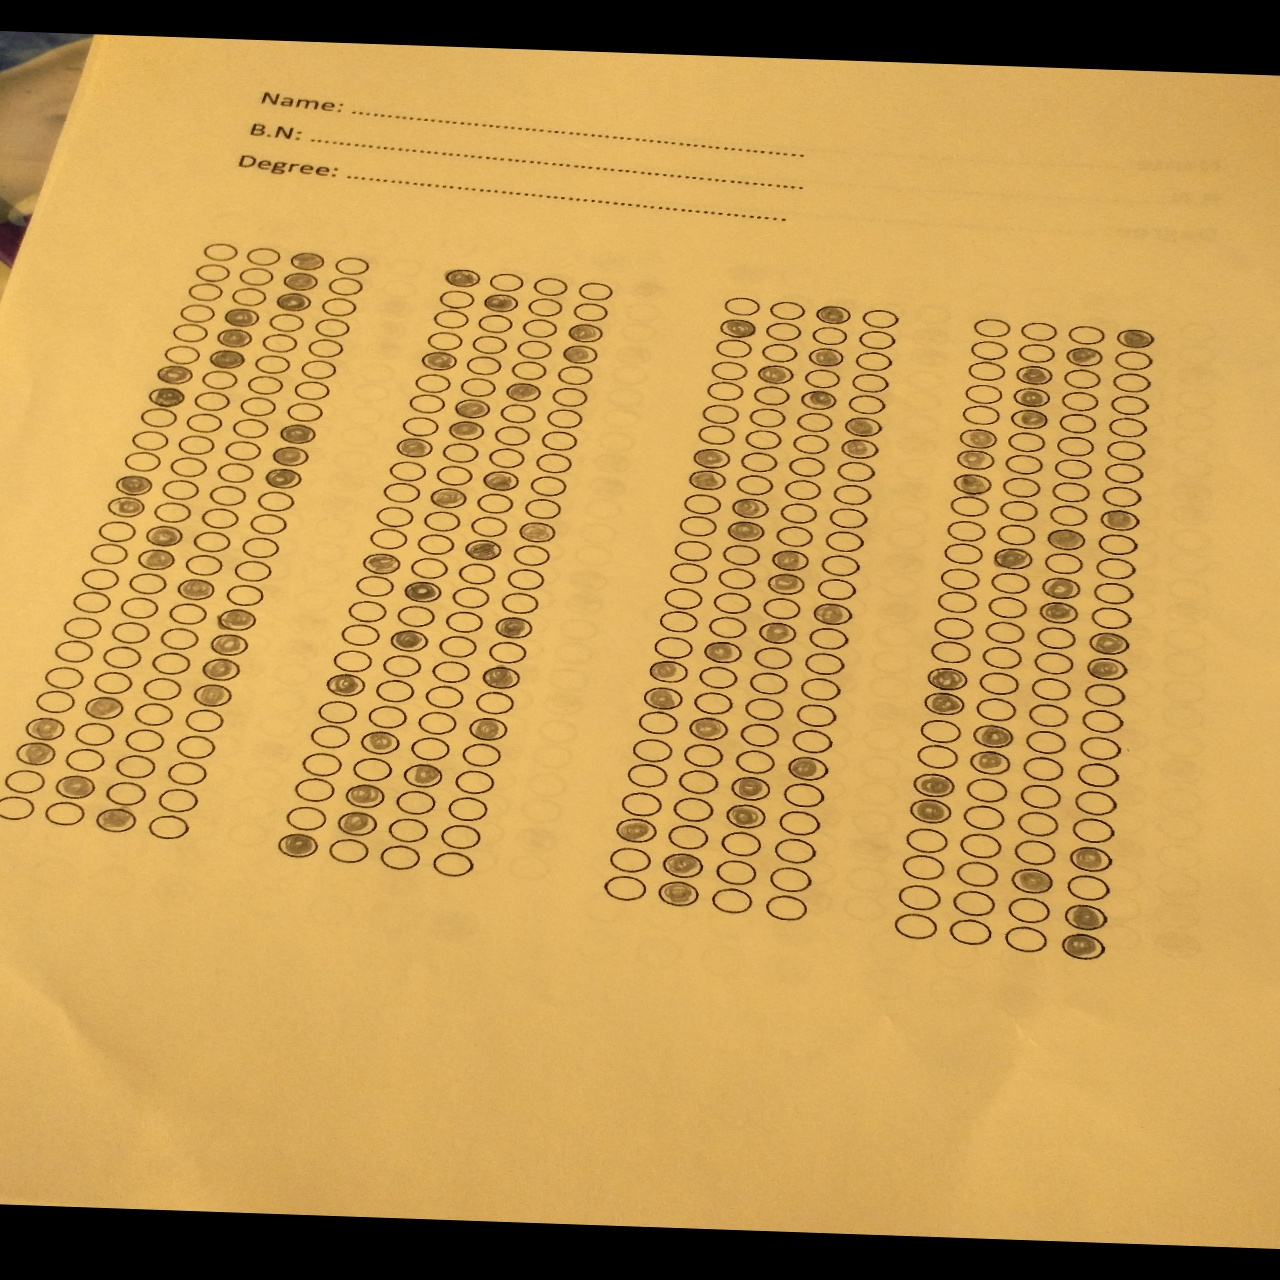not-c: (768, 864, 813, 894), (772, 836, 818, 865), (712, 859, 758, 887), (947, 917, 992, 946), (602, 874, 648, 903), (709, 886, 755, 914), (904, 826, 949, 855), (951, 888, 996, 917), (1006, 896, 1051, 924), (282, 804, 326, 833), (795, 701, 838, 730), (445, 795, 490, 823), (763, 894, 808, 922), (719, 829, 763, 857), (1013, 838, 1057, 866), (959, 832, 1003, 860), (898, 884, 942, 912), (1065, 874, 1110, 903), (147, 813, 190, 842), (326, 837, 369, 865), (384, 816, 428, 844), (452, 769, 496, 797), (409, 735, 452, 763), (309, 723, 353, 751), (366, 703, 409, 731), (626, 761, 669, 789), (670, 795, 714, 823), (790, 727, 833, 755), (667, 823, 710, 851), (903, 853, 946, 881), (893, 912, 937, 940), (955, 860, 999, 888), (1005, 925, 1048, 953), (377, 844, 422, 871), (291, 777, 335, 804), (43, 799, 86, 828), (394, 789, 436, 817), (349, 756, 392, 784), (315, 697, 358, 726), (621, 790, 663, 818), (777, 809, 819, 837), (692, 689, 734, 717), (440, 824, 483, 851), (459, 742, 503, 769), (300, 751, 343, 778), (415, 709, 458, 736), (373, 678, 416, 704), (407, 554, 450, 581), (1083, 681, 1126, 708), (1028, 701, 1071, 728), (783, 782, 824, 810), (610, 846, 651, 874), (104, 779, 147, 806), (4, 768, 46, 795), (433, 850, 475, 877), (474, 689, 516, 716), (748, 669, 790, 696), (682, 741, 724, 768), (1071, 817, 1114, 844), (423, 685, 467, 710), (331, 648, 374, 674), (430, 659, 474, 685), (437, 634, 481, 660), (339, 622, 382, 648), (394, 602, 437, 628), (442, 610, 485, 635), (497, 591, 540, 617), (354, 573, 397, 599), (454, 560, 497, 586), (503, 566, 546, 592), (804, 651, 847, 676), (919, 719, 962, 744), (915, 744, 959, 770), (1021, 755, 1064, 781), (1076, 762, 1119, 788), (1074, 789, 1117, 815), (965, 777, 1008, 803), (124, 727, 165, 754), (816, 576, 857, 602), (697, 665, 738, 692), (964, 803, 1005, 830), (114, 754, 156, 779), (157, 788, 199, 813), (486, 639, 529, 665), (743, 696, 785, 722), (733, 748, 775, 774), (978, 670, 1020, 696), (1030, 676, 1073, 702), (1082, 708, 1124, 734), (975, 697, 1017, 723), (1024, 729, 1067, 755), (1078, 736, 1121, 762), (1021, 783, 1063, 809), (1016, 811, 1058, 837), (346, 599, 389, 624), (449, 585, 492, 610), (822, 529, 865, 553), (89, 542, 130, 567), (166, 761, 207, 787), (64, 747, 105, 772), (420, 509, 461, 535), (440, 440, 481, 465), (799, 676, 840, 702), (738, 722, 779, 748), (678, 769, 719, 795), (995, 522, 1036, 547), (981, 645, 1022, 670), (175, 735, 217, 760), (380, 653, 422, 678), (818, 553, 860, 578), (719, 543, 761, 567), (760, 595, 802, 620), (806, 626, 849, 651), (653, 635, 695, 660), (636, 710, 679, 735), (935, 590, 978, 614), (193, 529, 233, 554), (225, 583, 265, 608), (80, 565, 120, 591), (53, 638, 93, 663), (102, 644, 142, 669), (151, 651, 191, 676), (400, 414, 440, 440), (715, 567, 758, 591), (132, 701, 173, 726), (74, 721, 115, 745), (527, 474, 568, 498), (381, 481, 422, 505), (538, 429, 579, 454), (673, 538, 714, 563), (668, 561, 709, 586), (658, 610, 699, 634), (712, 591, 753, 615), (753, 646, 794, 670), (1017, 319, 1058, 343), (1055, 434, 1096, 458), (942, 542, 983, 566), (1091, 606, 1132, 631), (988, 595, 1029, 620), (933, 617, 974, 641), (1035, 626, 1076, 651), (240, 535, 279, 560), (704, 617, 747, 640), (631, 738, 673, 762), (177, 433, 217, 457), (97, 519, 137, 544), (233, 558, 273, 583), (72, 590, 111, 614), (118, 595, 158, 620), (158, 626, 198, 651), (93, 670, 132, 695), (45, 666, 84, 690), (184, 708, 224, 733), (406, 392, 445, 416), (1043, 552, 1083, 577), (1097, 532, 1137, 557), (1034, 651, 1074, 675), (166, 601, 207, 625), (368, 527, 409, 551), (468, 515, 509, 538), (474, 491, 515, 515), (522, 497, 563, 520), (433, 464, 474, 488), (387, 459, 428, 483), (485, 445, 526, 469), (532, 451, 573, 475), (491, 423, 532, 447), (411, 372, 452, 395), (496, 402, 537, 425), (543, 406, 584, 429), (508, 359, 549, 382), (431, 307, 472, 331), (568, 300, 610, 324), (860, 307, 901, 331), (708, 359, 749, 382), (704, 380, 745, 403), (742, 428, 783, 451), (787, 455, 828, 478), (835, 459, 876, 483), (830, 483, 871, 506), (772, 525, 813, 549), (663, 587, 704, 611), (1016, 341, 1057, 365), (1114, 348, 1155, 372), (1109, 394, 1150, 417), (1051, 481, 1092, 504), (1103, 462, 1144, 485), (945, 519, 986, 543), (939, 567, 980, 591), (990, 572, 1032, 595), (1095, 557, 1136, 580), (1092, 581, 1133, 605), (930, 640, 971, 663), (983, 620, 1024, 644), (185, 553, 224, 578), (128, 571, 166, 595), (35, 689, 74, 714), (1, 794, 36, 821), (123, 450, 163, 474), (110, 621, 150, 645), (61, 615, 101, 639), (142, 678, 182, 701), (462, 354, 502, 377), (469, 333, 509, 356), (475, 312, 515, 335), (808, 324, 847, 347), (847, 394, 887, 417), (747, 406, 787, 429), (1108, 416, 1148, 440), (512, 543, 550, 567), (166, 455, 207, 477), (256, 490, 297, 512), (159, 478, 200, 501), (151, 501, 192, 523), (373, 506, 414, 529), (455, 376, 496, 399), (518, 316, 559, 339), (436, 288, 477, 311), (524, 295, 565, 318), (721, 295, 762, 318), (765, 299, 806, 321), (760, 342, 801, 365), (713, 338, 754, 360), (750, 383, 791, 406), (802, 367, 843, 389), (782, 478, 823, 501), (828, 508, 869, 530), (676, 516, 717, 538), (972, 316, 1013, 339), (965, 359, 1006, 381), (964, 383, 1005, 406), (1110, 372, 1151, 394), (1006, 430, 1047, 452), (948, 493, 989, 516), (1051, 458, 1092, 481), (1105, 440, 1146, 462), (139, 406, 178, 429), (850, 372, 888, 395), (223, 440, 263, 462), (130, 430, 170, 452), (213, 461, 253, 483), (207, 484, 247, 506), (200, 506, 240, 529), (549, 386, 588, 408), (513, 339, 553, 361), (486, 271, 526, 293), (576, 280, 615, 302), (762, 320, 802, 342), (699, 403, 738, 425), (696, 423, 736, 445), (790, 433, 830, 455), (738, 451, 778, 474), (734, 474, 774, 496), (778, 502, 818, 524), (1067, 324, 1107, 346), (971, 339, 1010, 361), (1057, 411, 1097, 434), (1062, 368, 1102, 390), (1005, 452, 1044, 475), (1001, 477, 1041, 499), (999, 499, 1039, 522), (1048, 504, 1088, 526), (293, 379, 331, 402), (253, 353, 291, 376), (416, 532, 454, 556), (553, 365, 594, 386), (424, 331, 465, 352), (529, 275, 570, 297), (794, 411, 835, 433), (681, 493, 722, 515), (1058, 390, 1099, 411), (1101, 486, 1142, 508), (333, 254, 372, 277), (855, 352, 893, 374), (246, 374, 282, 397), (248, 513, 288, 535), (960, 404, 1000, 425), (244, 246, 281, 268), (230, 286, 267, 308), (286, 401, 324, 423), (266, 312, 304, 334), (200, 241, 239, 263), (326, 275, 365, 297), (162, 343, 200, 365), (858, 329, 897, 350), (195, 261, 231, 284), (239, 396, 275, 418), (261, 332, 298, 354), (237, 266, 274, 287), (320, 297, 358, 318), (307, 338, 345, 359), (200, 369, 238, 390), (188, 281, 224, 302), (314, 316, 350, 338), (300, 359, 336, 380), (178, 302, 215, 324), (171, 322, 207, 343), (193, 390, 230, 411), (186, 411, 223, 433), (232, 418, 268, 440)
taken-c: (1060, 932, 1108, 962), (1065, 845, 1115, 874), (1009, 865, 1056, 896), (1062, 903, 1110, 932), (907, 796, 955, 825), (908, 771, 956, 799), (966, 749, 1014, 777), (922, 663, 971, 692), (918, 689, 967, 716), (52, 772, 96, 801), (93, 806, 137, 835), (386, 627, 430, 655), (953, 445, 998, 474), (968, 722, 1016, 748), (1083, 655, 1131, 681), (481, 663, 524, 692), (660, 851, 703, 879), (13, 740, 57, 767), (1039, 576, 1083, 602), (1097, 508, 1142, 535), (1085, 631, 1131, 656), (334, 810, 377, 837), (342, 784, 386, 811), (467, 717, 510, 744), (324, 672, 367, 699), (402, 580, 445, 607), (724, 802, 765, 830), (275, 832, 320, 858), (401, 762, 445, 788), (358, 730, 402, 756), (949, 472, 994, 498), (955, 425, 1000, 451), (729, 775, 771, 802), (614, 817, 656, 844), (655, 880, 697, 907), (990, 545, 1036, 570), (491, 617, 535, 642), (701, 638, 744, 663), (647, 659, 690, 685), (641, 685, 685, 710), (1043, 527, 1087, 553), (687, 716, 731, 741), (1035, 601, 1080, 626), (1005, 408, 1049, 433), (1012, 363, 1056, 388), (1114, 327, 1158, 352), (360, 552, 402, 578), (478, 468, 520, 493), (1061, 345, 1107, 368), (756, 621, 799, 646), (785, 756, 829, 781), (1009, 384, 1053, 409), (217, 607, 258, 633), (207, 632, 248, 658), (502, 380, 543, 406), (463, 537, 505, 561), (516, 520, 558, 545), (425, 485, 468, 510), (812, 601, 855, 626), (190, 682, 231, 707), (392, 435, 433, 459), (445, 418, 486, 443), (202, 658, 241, 682), (83, 695, 123, 720), (25, 717, 64, 742), (806, 345, 846, 369), (692, 447, 731, 471), (686, 469, 726, 493), (728, 496, 768, 520), (105, 496, 147, 519), (813, 302, 852, 327), (279, 270, 319, 293), (222, 305, 261, 328), (215, 327, 254, 350), (147, 384, 186, 408), (263, 467, 302, 490), (114, 474, 154, 497), (143, 525, 183, 549), (451, 397, 491, 421), (418, 350, 458, 374), (442, 266, 482, 290), (719, 315, 758, 339), (844, 416, 884, 440), (726, 520, 765, 544), (769, 549, 809, 572), (765, 572, 805, 595), (275, 423, 316, 445), (287, 248, 326, 272), (176, 578, 215, 601), (483, 291, 522, 314), (273, 290, 313, 312), (271, 445, 311, 468), (560, 343, 600, 366), (566, 322, 606, 345), (755, 363, 795, 386), (798, 389, 838, 411), (839, 437, 879, 459), (136, 547, 173, 571), (207, 348, 246, 370), (154, 365, 193, 386)
